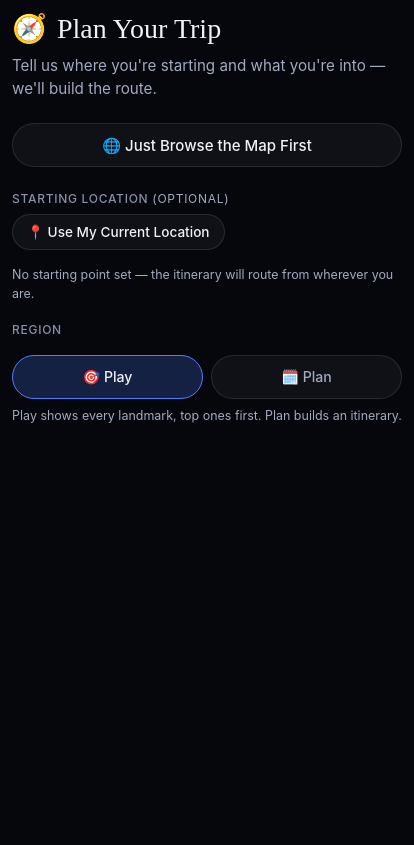
Test case: Create New Trip: Play, Plan and interests › Plan opens with nothing picked, even if last time had picks, and Top Landmarks leads the chips
This screenshot has width=414, height=845.
Click the button with class "tab-btn" showing "🗓️ Plan": (306, 377) left=211, top=355, right=402, bottom=399
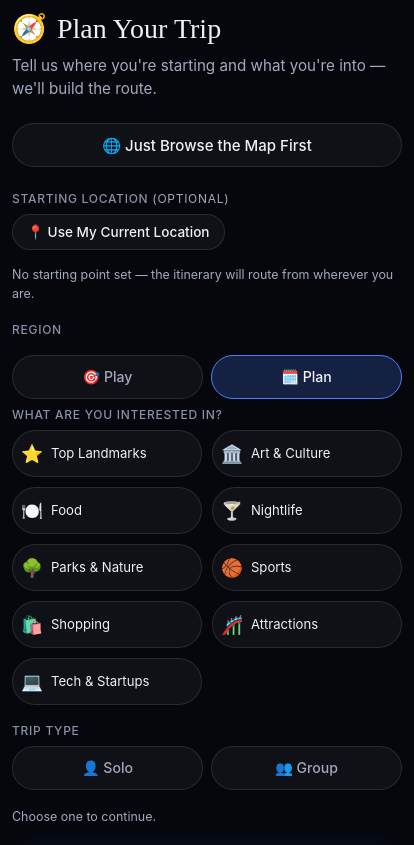
Check: the button with class "chip" shows "Top Landmarks", box left=12, top=430, right=202, bottom=477
